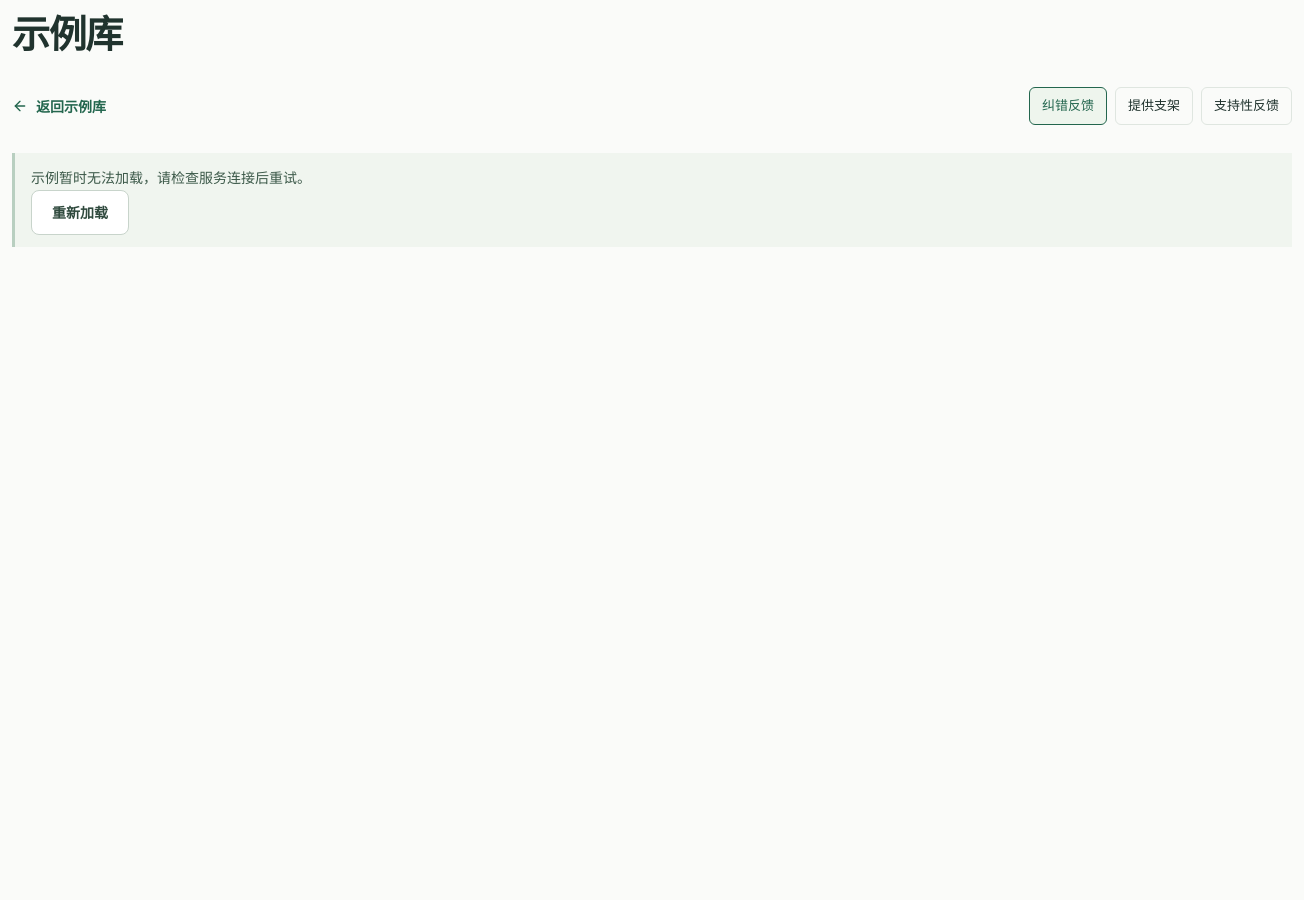
Test: allows read-only reload on a Chinese connection error
Expected: the message shows "示例暂时无法加载", [31,168,311,187]
Click the button "重新加载": (80, 212) [31,190,129,235]
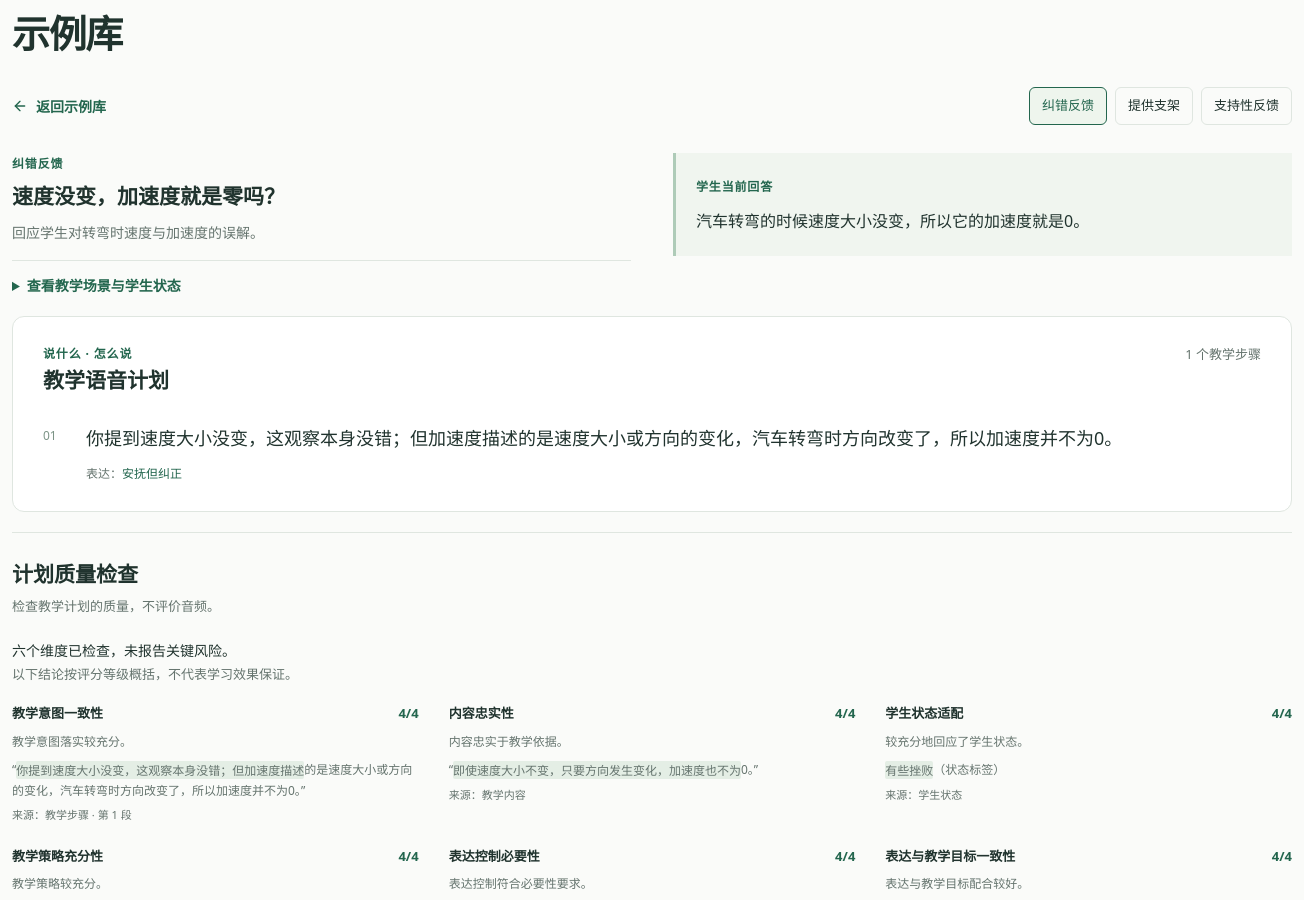
Expected: the element "教学语音计划" is shown, [12,316,1292,512]
